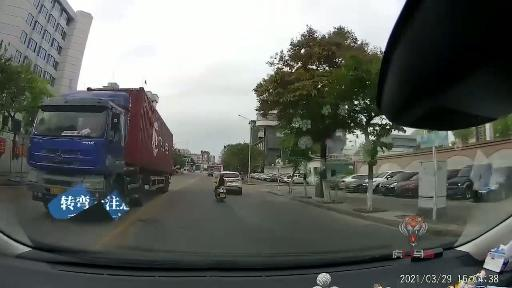Bike: (209, 173, 229, 204)
CAR: (223, 168, 245, 195)
Truck: (33, 80, 176, 214)
